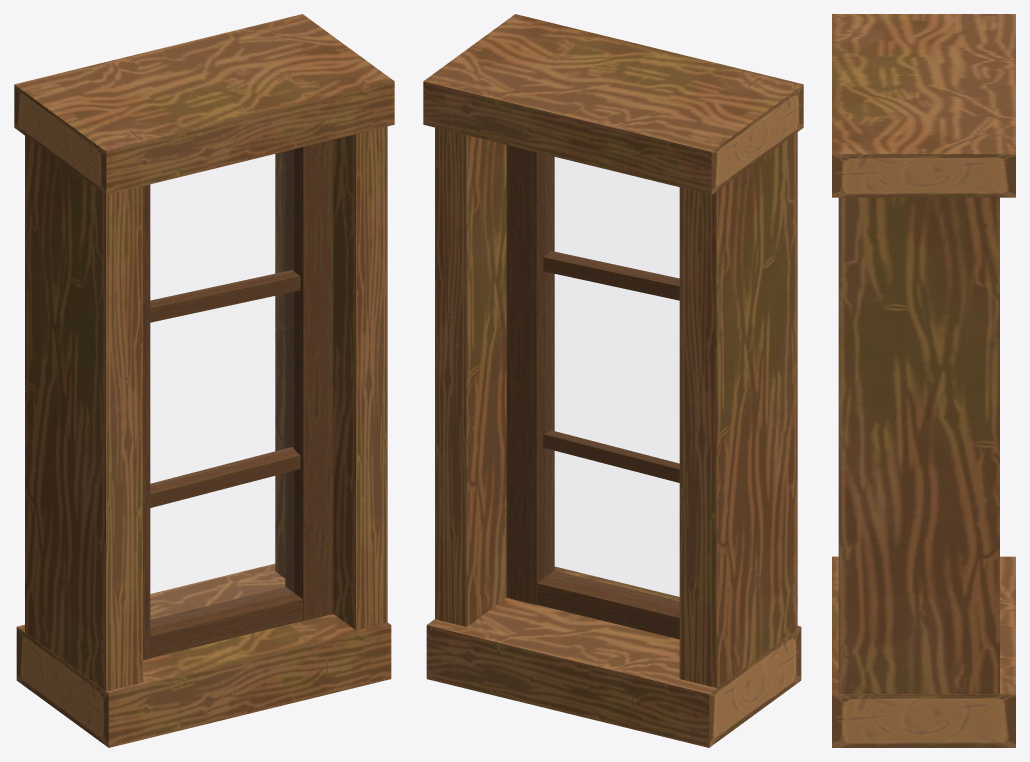
The model's file is Window_Thin_Flat1.glb.
The picture shows the model from 3 angles, left to right: view 1: azimuth 30°, elevation 25°; view 2: azimuth 150°, elevation 25°; view 3: azimuth 270°, elevation 25°; orthographic projection.
Parts seen in each view (by area): view 1: Window_Thin_Flat1; view 2: Window_Thin_Flat1; view 3: Window_Thin_Flat1.
Boxes of the visible parts, left/top/right/bottom form: Window_Thin_Flat1: left=14, top=14, right=394, bottom=747; Window_Thin_Flat1: left=423, top=14, right=803, bottom=747; Window_Thin_Flat1: left=832, top=14, right=1015, bottom=747.
Size of the model in its own units: 0.788 by 1.56 by 0.4358.
2 materials, 1 textured.
